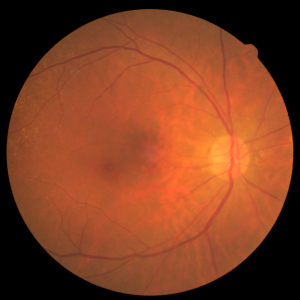cataract: (48, 87, 265, 218)
